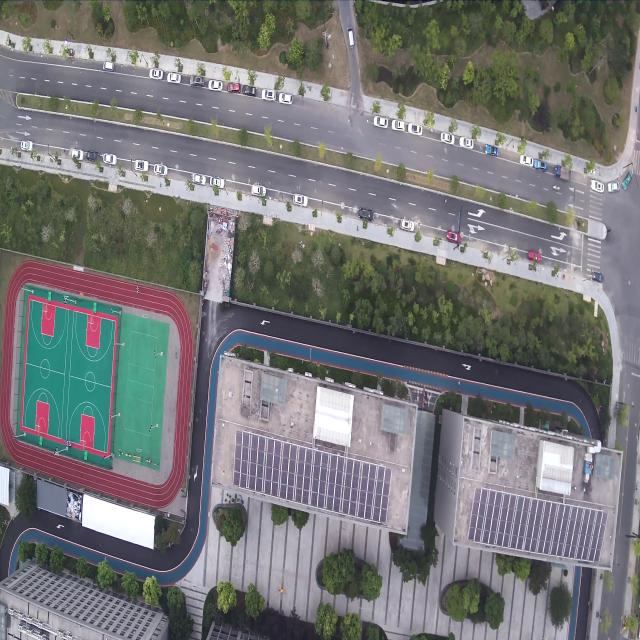UAV: (325, 368, 329, 375)
